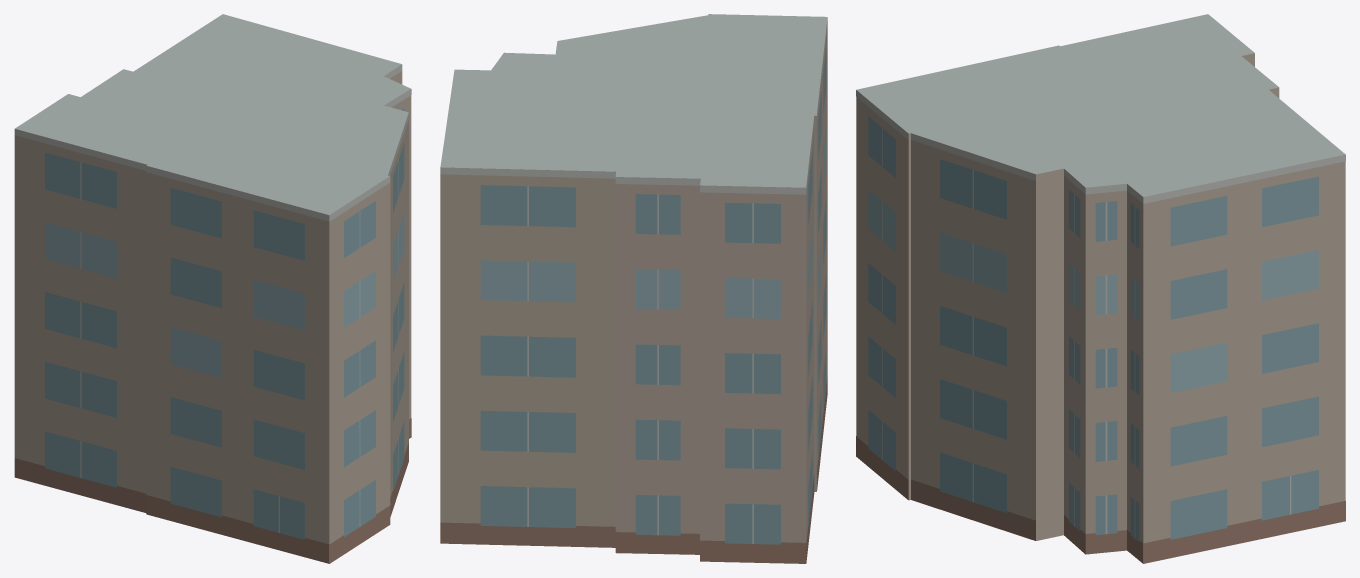
The model's file is survey-upis-32938612.glb.
3 renders of one model, left to right at view 1: azimuth 30°, elevation 25°; view 2: azimuth 150°, elevation 25°; view 3: azimuth 270°, elevation 25°, orthographic. The views are drawn at different scales.
Parts seen in each view (by area): view 1: survey-upis-32938612.tmp; view 2: survey-upis-32938612.tmp; view 3: survey-upis-32938612.tmp.
Boxes of the visible parts, bbox=[...] form: survey-upis-32938612.tmp: bbox=[14, 14, 411, 563]; survey-upis-32938612.tmp: bbox=[440, 14, 827, 563]; survey-upis-32938612.tmp: bbox=[856, 14, 1345, 563].
Size of the model in its own units: 14.17 by 13.22 by 16.01.
